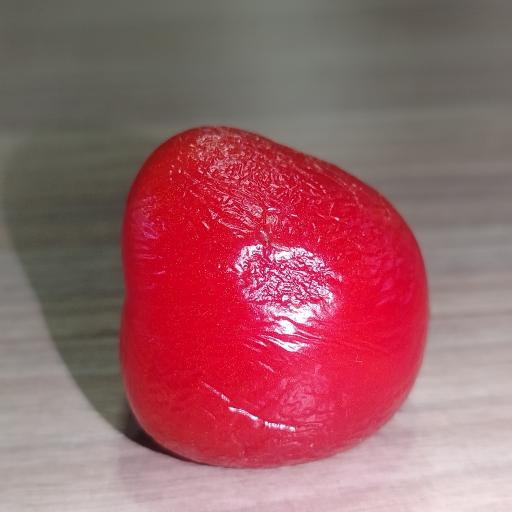spoiled: (120, 127, 428, 467)
